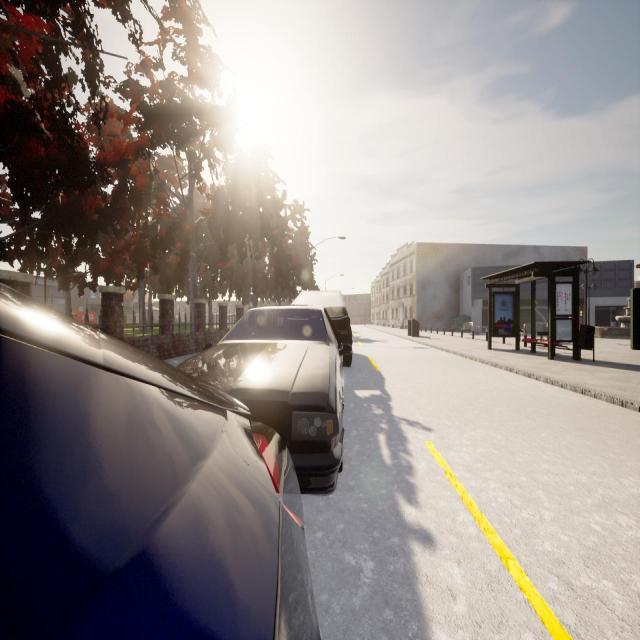Vehicle: (0, 287, 319, 640), (173, 304, 342, 496), (291, 291, 353, 368)
